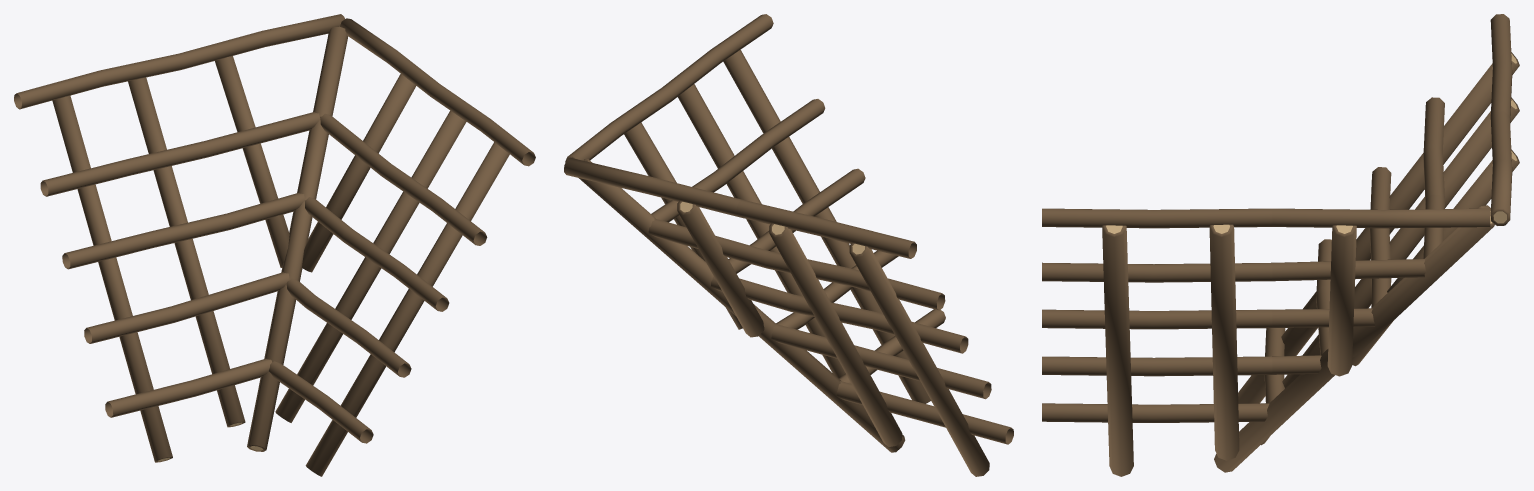
Rendered from rpgpp_ag_roof_support_01_6x5x3_corner_a.fbx.
3 views of the same model, side by side, from view 1: azimuth 30°, elevation 25°; view 2: azimuth 150°, elevation 25°; view 3: azimuth 270°, elevation 25° (orthographic). The views are drawn at different scales.
Parts seen in each view (by area): view 1: rpgpp_ag_roof_support_01_6x5x3_corner_a; view 2: rpgpp_ag_roof_support_01_6x5x3_corner_a; view 3: rpgpp_ag_roof_support_01_6x5x3_corner_a.
Part boxes in pixels (left/top/right/bottom): rpgpp_ag_roof_support_01_6x5x3_corner_a: left=14, top=14, right=535, bottom=476; rpgpp_ag_roof_support_01_6x5x3_corner_a: left=564, top=14, right=1013, bottom=476; rpgpp_ag_roof_support_01_6x5x3_corner_a: left=1042, top=14, right=1519, bottom=476.
Size of the model in its own units: 6.27 by 5.49 by 6.23.
